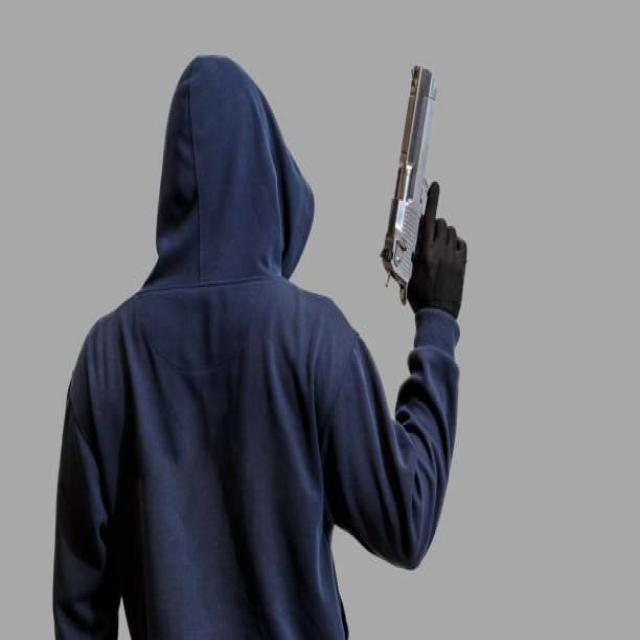gun: (381, 66, 438, 304)
